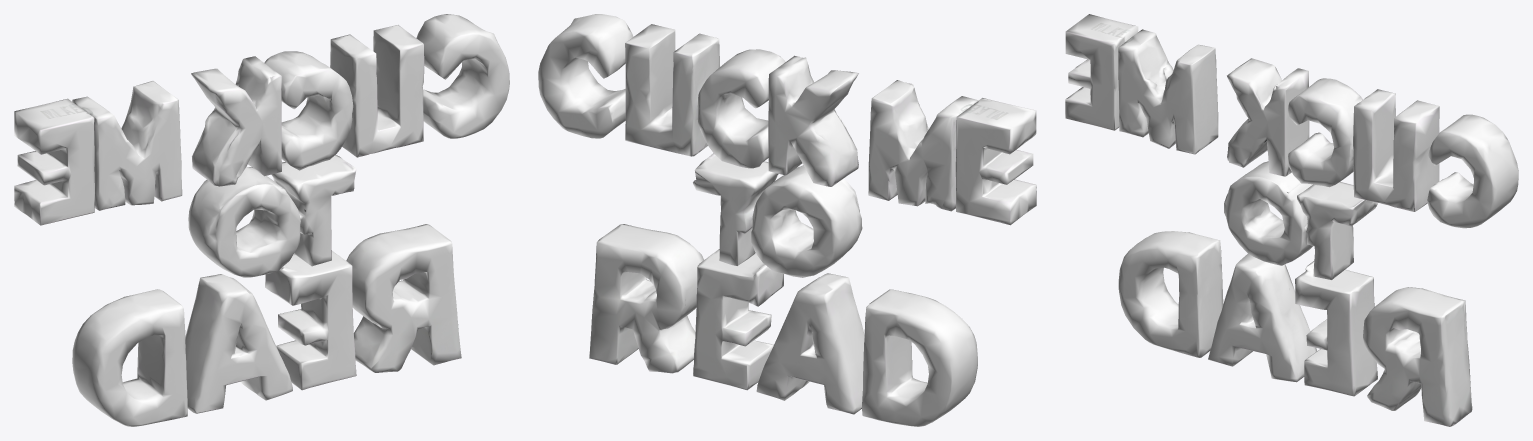
The model's file is Clickable_Prompt_0615175426_texture.glb.
The picture shows the model from 3 angles, left to right: view 1: azimuth 30°, elevation 25°; view 2: azimuth 150°, elevation 25°; view 3: azimuth 330°, elevation 25°; orthographic projection. The views are drawn at different scales.
Bounding box in the file's own units: 1.99 × 1.34 × 0.1989.
1 material, 1 textured.
